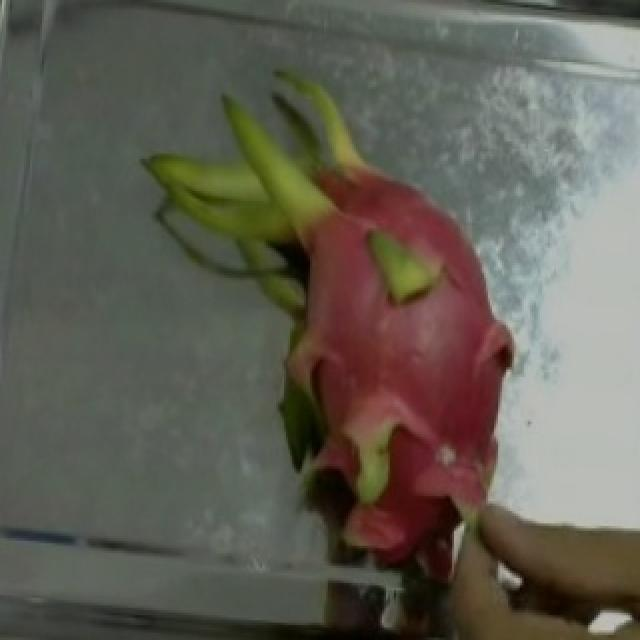fruit: (122, 49, 544, 493)
